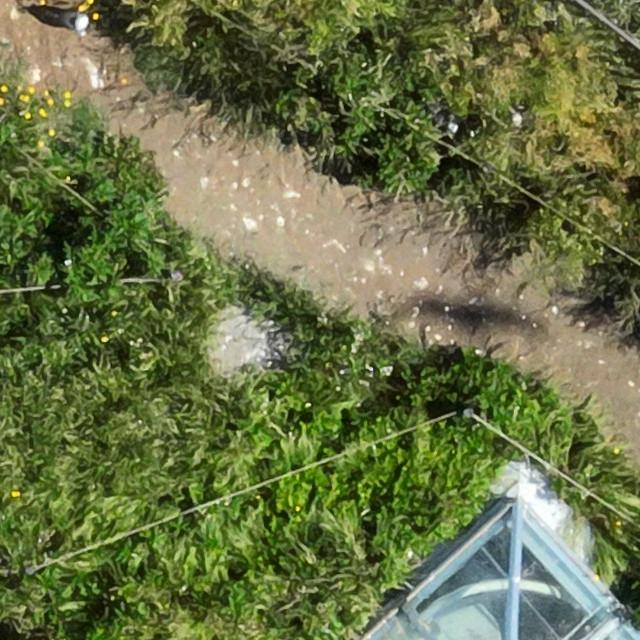umineko: (51, 10, 87, 33), (431, 114, 462, 134), (510, 110, 532, 124)
